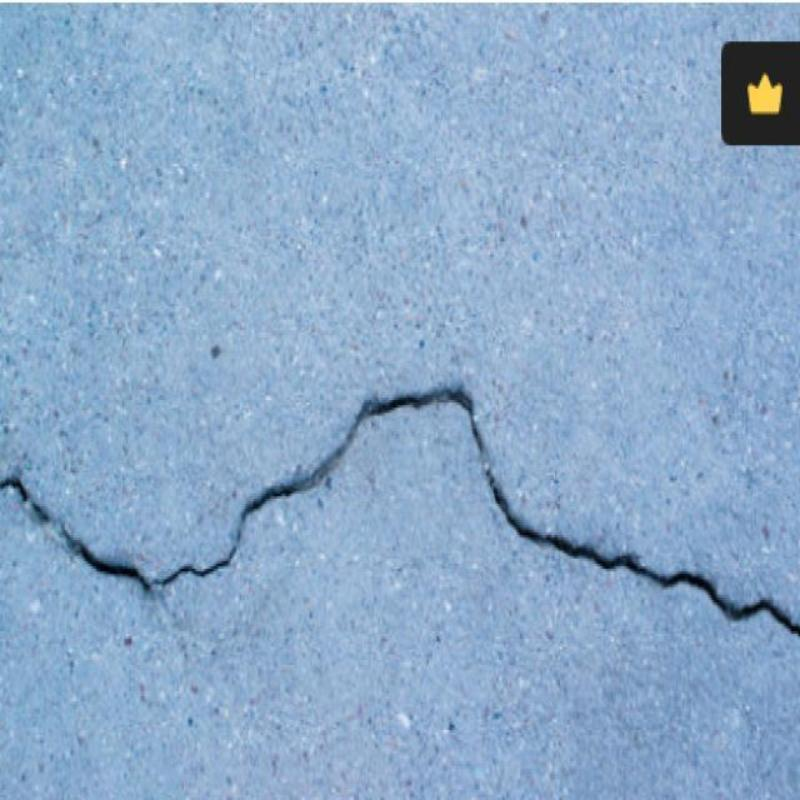pothole: (0, 385, 799, 636)
